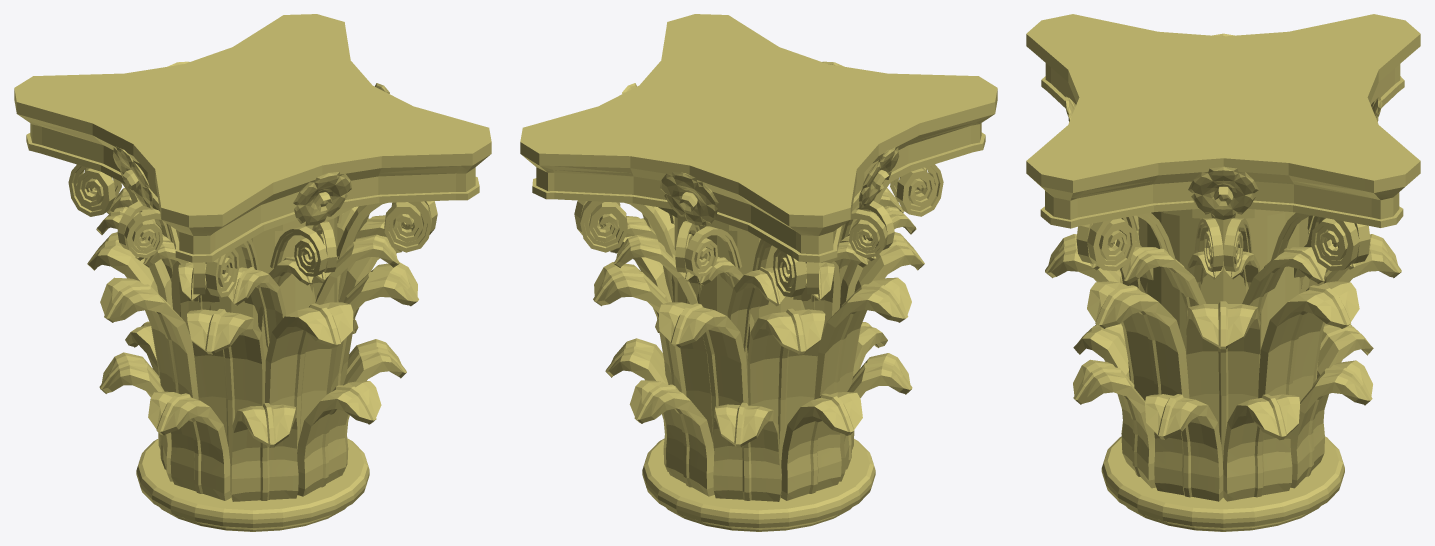
Rendered from pasted__gold_214.fbx.
3 views of the same model, side by side, from view 1: azimuth 30°, elevation 25°; view 2: azimuth 150°, elevation 25°; view 3: azimuth 270°, elevation 25° (orthographic). The views are drawn at different scales.
Visible parts, largest first — view 1: pasted__Node_1460; view 2: pasted__Node_1460; view 3: pasted__Node_1460.
Part boxes in pixels (x1,y1,x2,y2): pasted__Node_1460: [14, 14, 491, 531]; pasted__Node_1460: [520, 14, 997, 531]; pasted__Node_1460: [1026, 14, 1420, 531].
Size of the model in its own units: 41.71 by 41.71 by 45.7.
